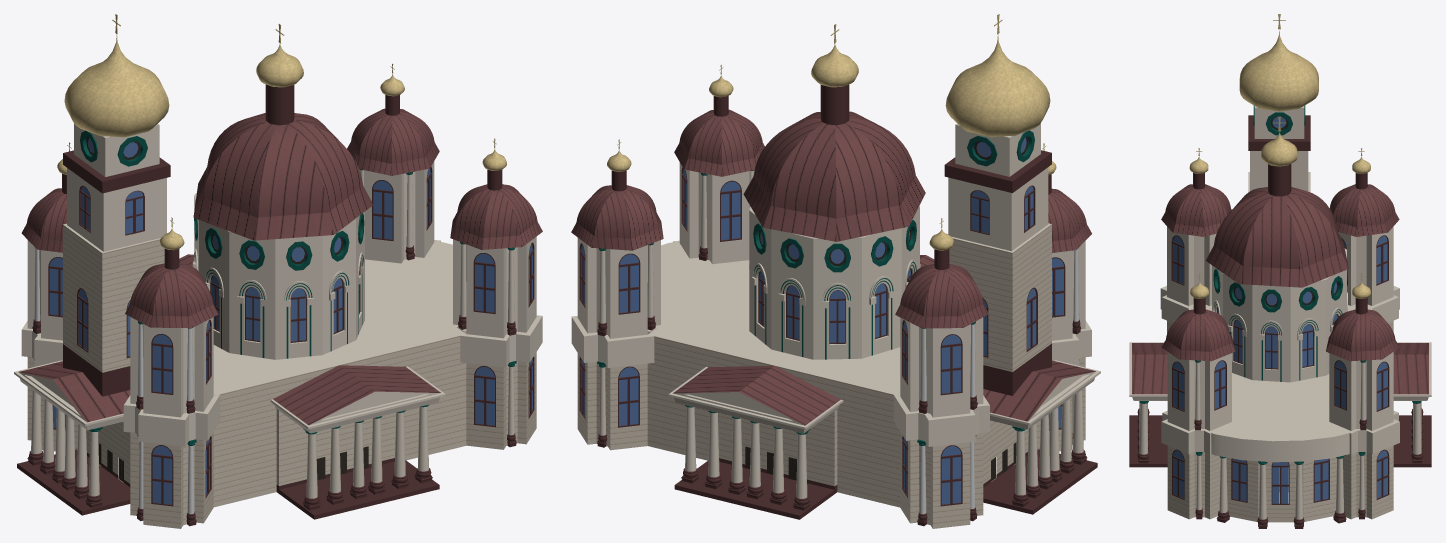
File: Organ.glb
3 views of the same model, side by side, from view 1: azimuth 30°, elevation 25°; view 2: azimuth 150°, elevation 25°; view 3: azimuth 270°, elevation 25° (orthographic). The views are drawn at different scales.
Parts seen in each view (by area): view 1: root; view 2: root; view 3: root.
Part boxes in pixels (x1,y1,x2,y2): root: [14, 14, 542, 528]; root: [571, 14, 1100, 528]; root: [1129, 14, 1431, 528].
Size of the model in its own units: 43.34 by 41.81 by 31.42.
9 materials, 3 textured.
